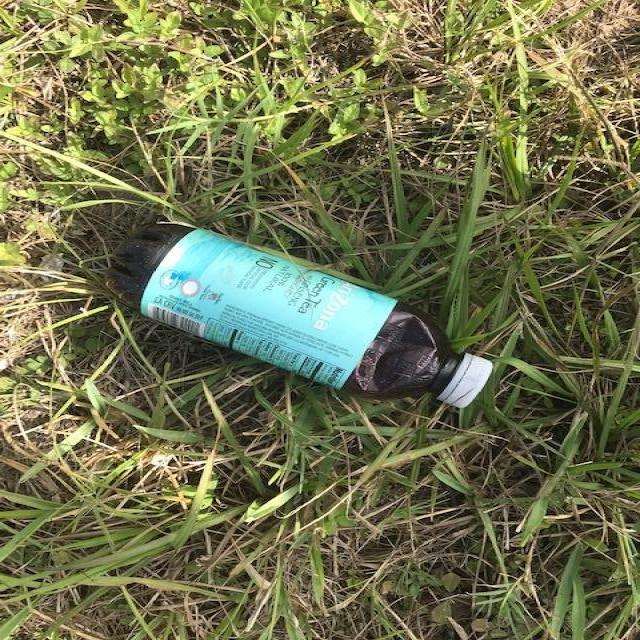litter: (104, 223, 492, 410)
